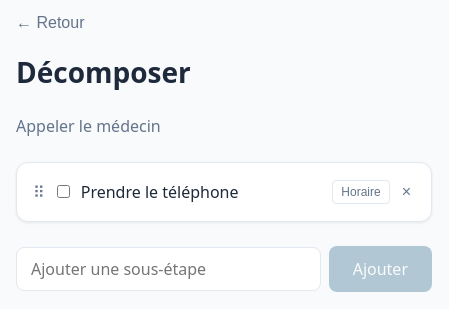
Test: E23Decompose › coche une sous-étape et recharge la liste
Expected: the text "Prendre le téléphone" is shown, [81,181,238,203]
Click the checkbox named "Marquer terminée : Prendre le téléphone".
click(63, 192)  # box [57,185,70,198]
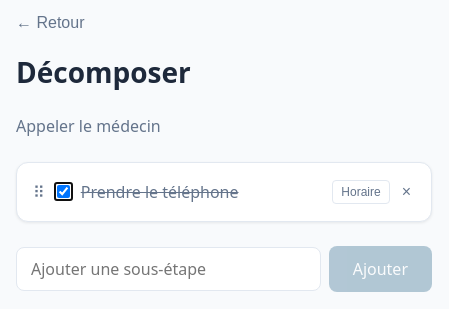
Expected: the checkbox named "Marquer non terminée : Prendre le téléphone" is shown, [57,185,70,198]
